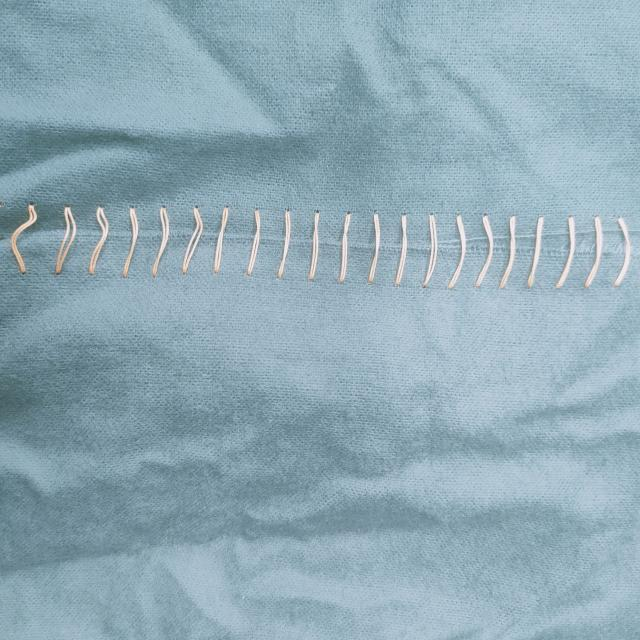Thread_out: (1, 161, 640, 362)
